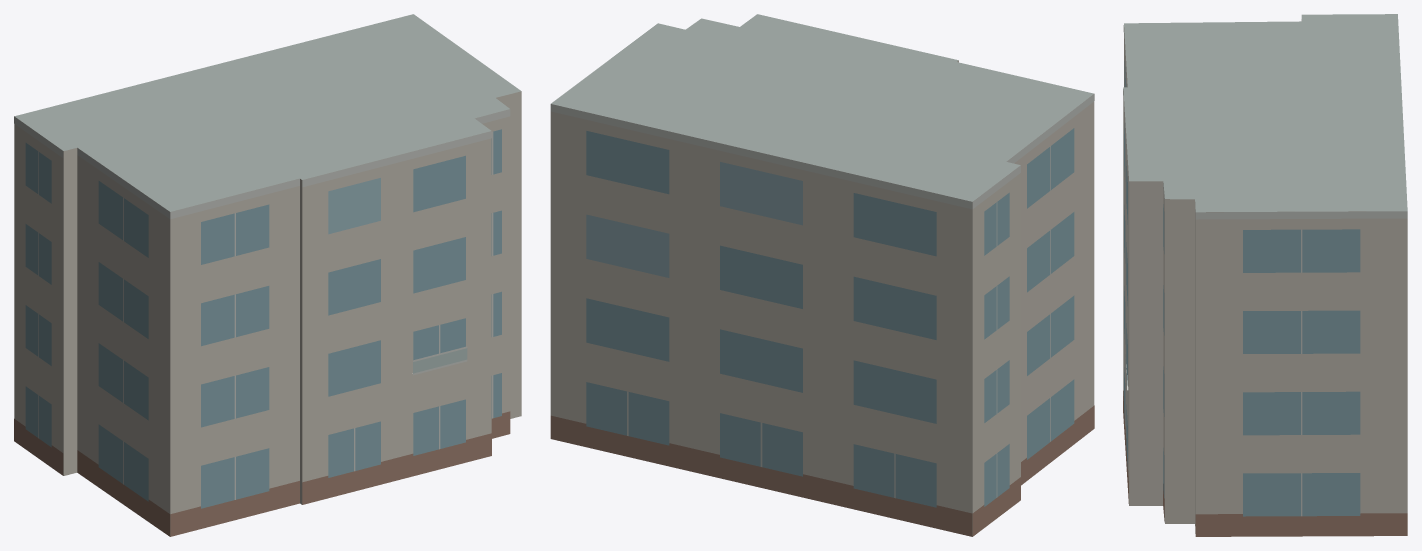
Rendered from survey-upis-32724990.glb.
3 views of the same model, side by side, from view 1: azimuth 30°, elevation 25°; view 2: azimuth 150°, elevation 25°; view 3: azimuth 270°, elevation 25° (orthographic). The views are drawn at different scales.
Parts seen in each view (by area): view 1: survey-upis-32724990.tmp; view 2: survey-upis-32724990.tmp; view 3: survey-upis-32724990.tmp.
Boxes of the visible parts, x1=… form: survey-upis-32724990.tmp: x1=14, y1=14, x2=521, y2=536; survey-upis-32724990.tmp: x1=550, y1=14, x2=1094, y2=536; survey-upis-32724990.tmp: x1=1123, y1=14, x2=1407, y2=536.
Size of the model in its own units: 14.14 by 10.8 by 8.59.
